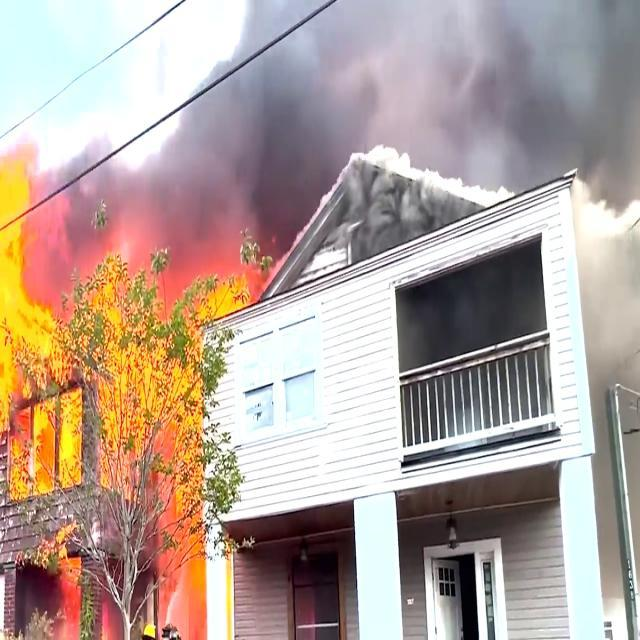Fire: (2, 155, 112, 490), (122, 306, 196, 634)
Smoke: (152, 38, 640, 159), (133, 162, 295, 276), (581, 179, 640, 480)
